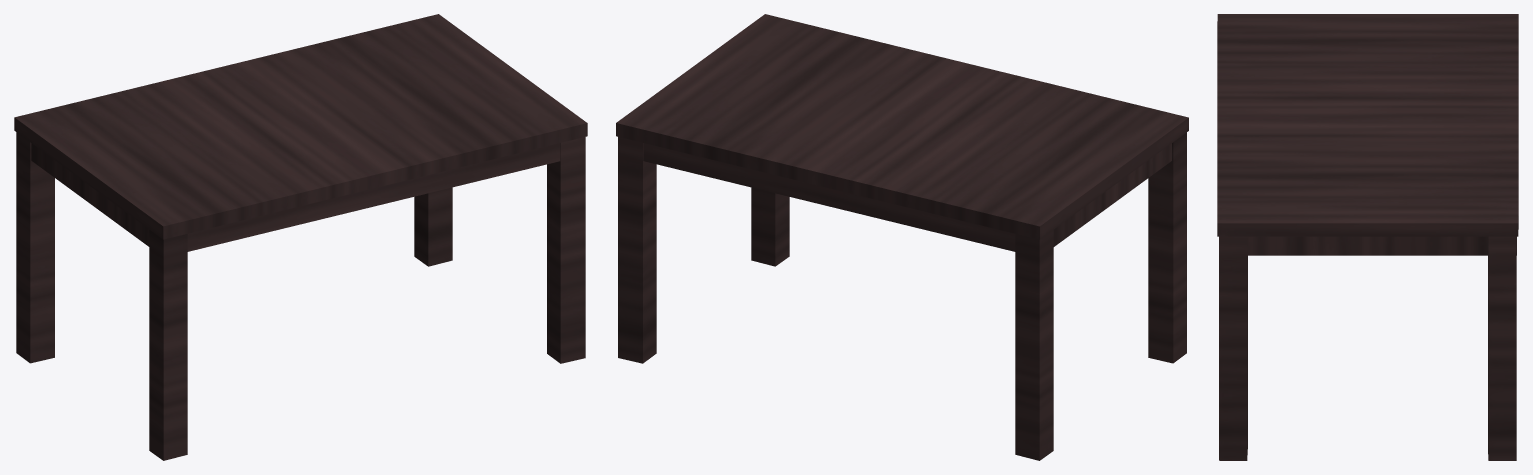
The model's file is frl_apartment_table_01.glb.
The picture shows the model from 3 angles, left to right: view 1: azimuth 30°, elevation 25°; view 2: azimuth 150°, elevation 25°; view 3: azimuth 270°, elevation 25°; orthographic projection.
Parts seen in each view (by area): view 1: frl_apartment_table_01; view 2: frl_apartment_table_01; view 3: frl_apartment_table_01.
Boxes of the visible parts, left/top/right/bottom form: frl_apartment_table_01: left=14, top=14, right=587, bottom=460; frl_apartment_table_01: left=616, top=14, right=1188, bottom=460; frl_apartment_table_01: left=1217, top=14, right=1518, bottom=460.
Size of the model in its own units: 1.4 by 0.7421 by 0.8518.
Materials: 1 (1 with a texture image).
